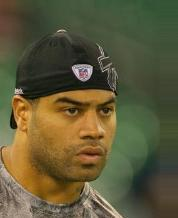face: (53, 97, 118, 168)
